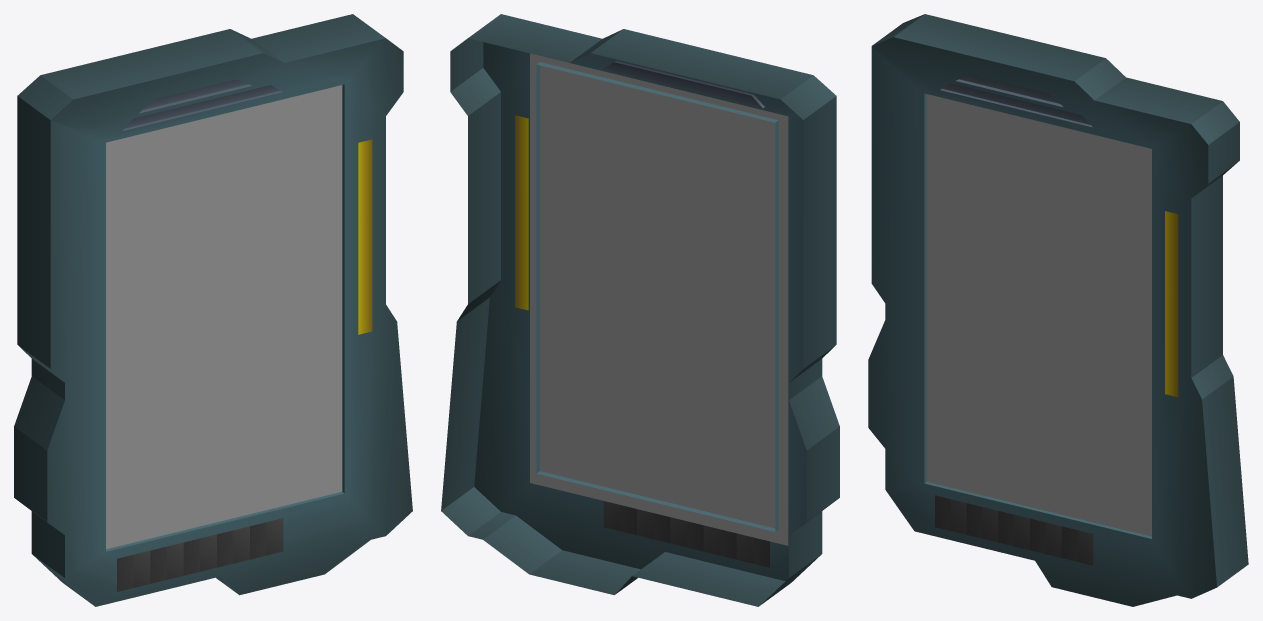
Rendered from Asset_Panel_Interactuable.fbx.
3 views of the same model, side by side, from view 1: azimuth 30°, elevation 25°; view 2: azimuth 150°, elevation 25°; view 3: azimuth 330°, elevation 25° (orthographic). The views are drawn at different scales.
Visible parts, largest first — view 1: Asset_Panel_X, panel; view 2: panel, Asset_Panel_X; view 3: Asset_Panel_X, panel.
Part boxes in pixels (box(x1,y1,x2,y2)): Asset_Panel_X: box(14, 14, 412, 606); panel: box(106, 85, 342, 549); panel: box(530, 53, 788, 545); Asset_Panel_X: box(441, 14, 839, 606); Asset_Panel_X: box(868, 14, 1248, 606); panel: box(926, 94, 1151, 536).
Bounding box in the file's own units: 0.3763 × 0.5272 × 0.059.
Materials: 2 (1 with a texture image).
